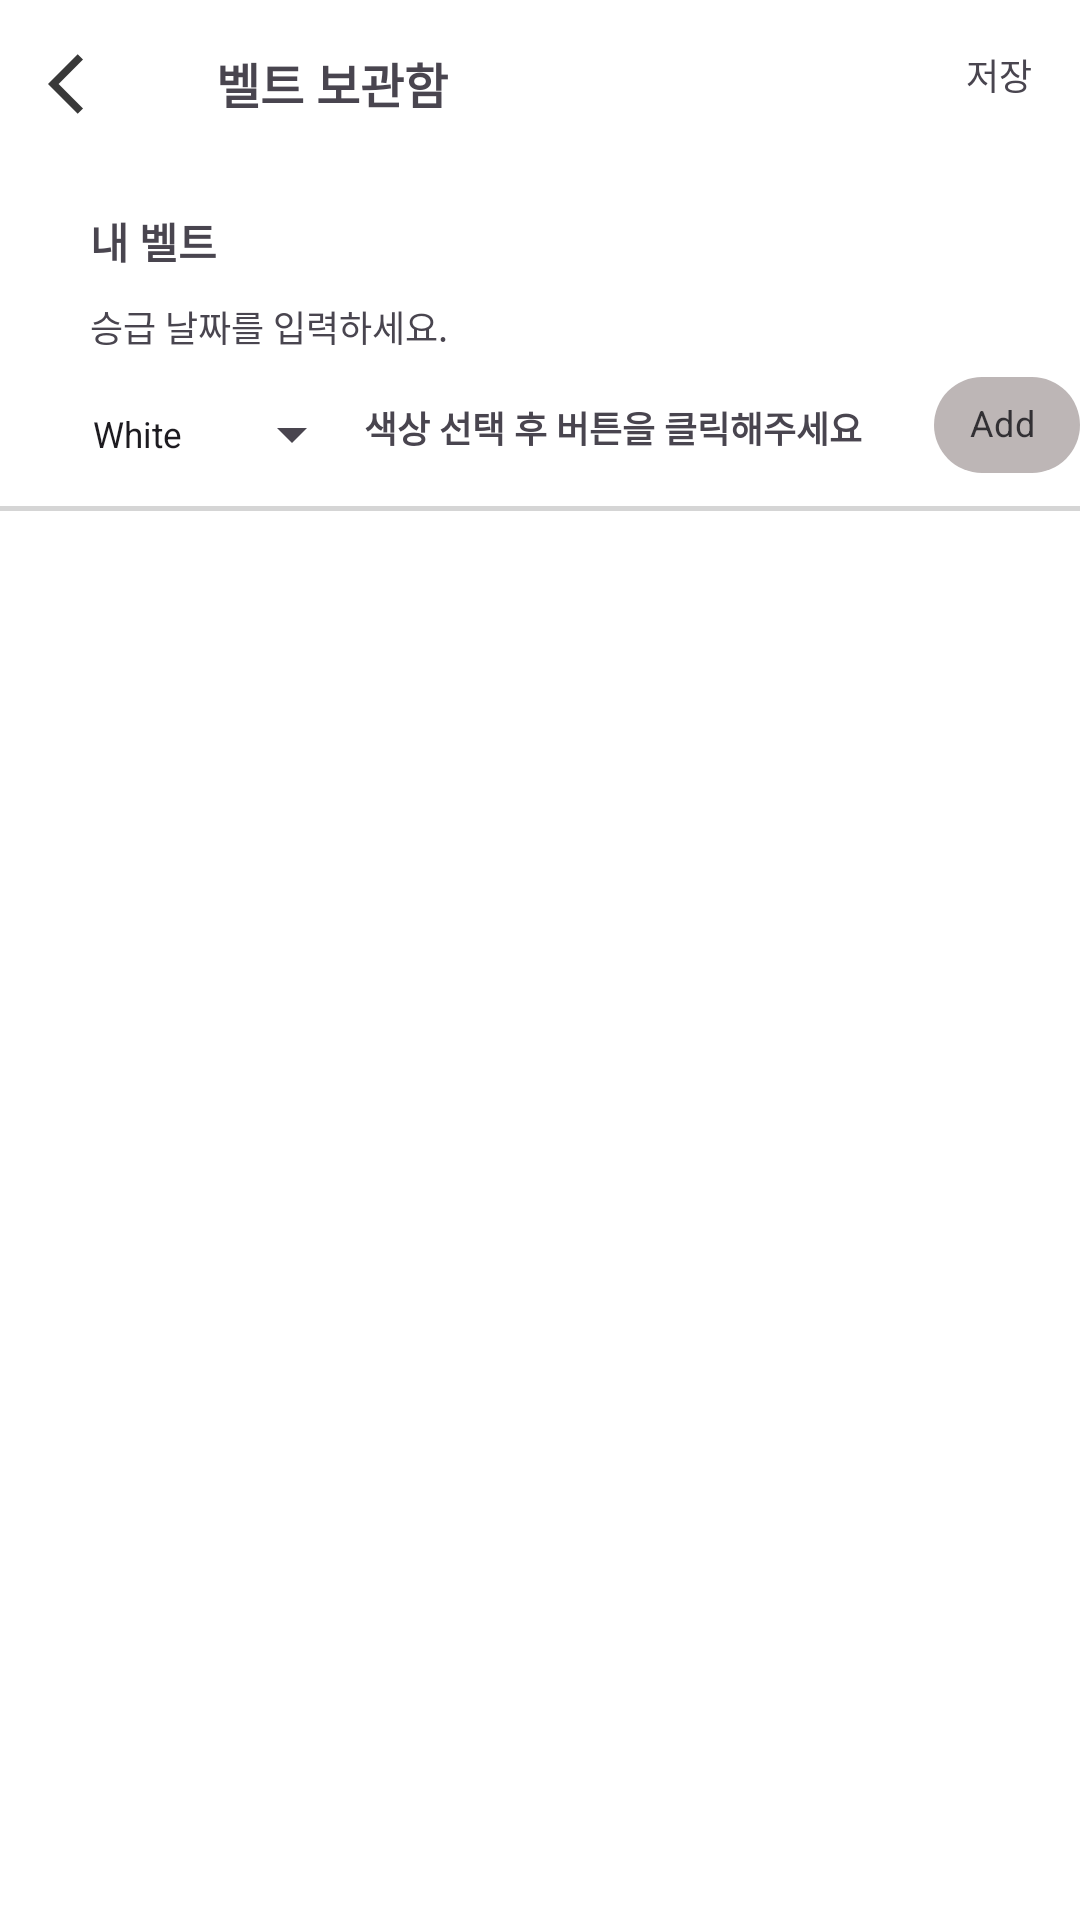

Icons on this 1080px×1920px Android screen, each with the point to tap as (x=x, y=y):
back: (x=65, y=84)
